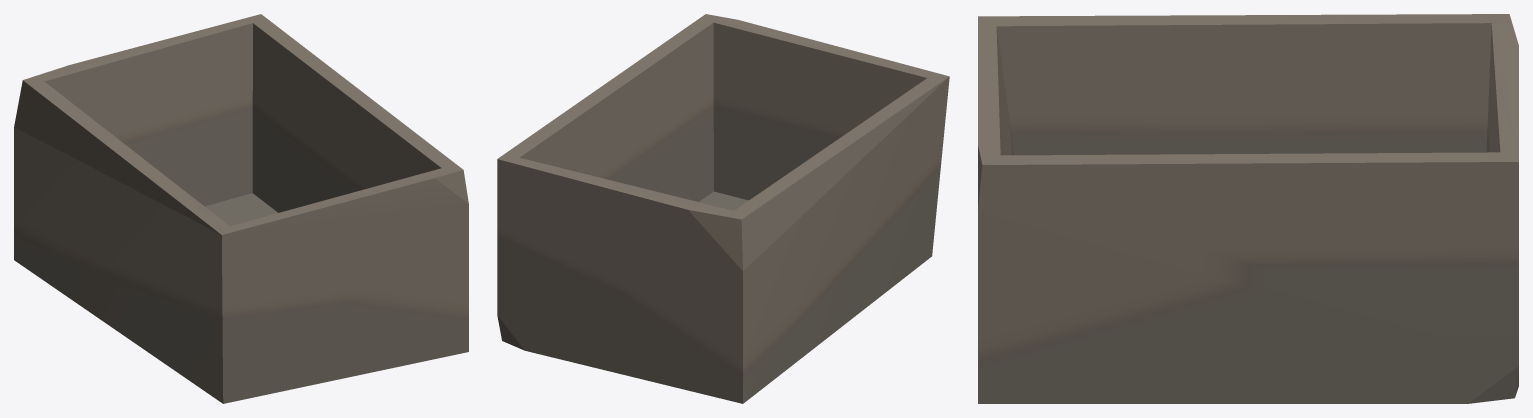
The model's file is SM_Prop_CardboardBox_04_1070.obj.
3 renders of one model, left to right at view 1: azimuth 30°, elevation 25°; view 2: azimuth 150°, elevation 25°; view 3: azimuth 270°, elevation 25°, orthographic. The views are drawn at different scales.
Parts seen in each view (by area): view 1: SM_Prop_CardboardBox_04_0; view 2: SM_Prop_CardboardBox_04_0; view 3: SM_Prop_CardboardBox_04_0.
Part boxes in pixels (bbox=[...]): SM_Prop_CardboardBox_04_0: bbox=[14, 14, 468, 403]; SM_Prop_CardboardBox_04_0: bbox=[497, 14, 949, 403]; SM_Prop_CardboardBox_04_0: bbox=[978, 14, 1518, 403].
Bounding box in the file's own units: 0.5 × 0.3596 × 0.7282.
1 material, 1 textured.
